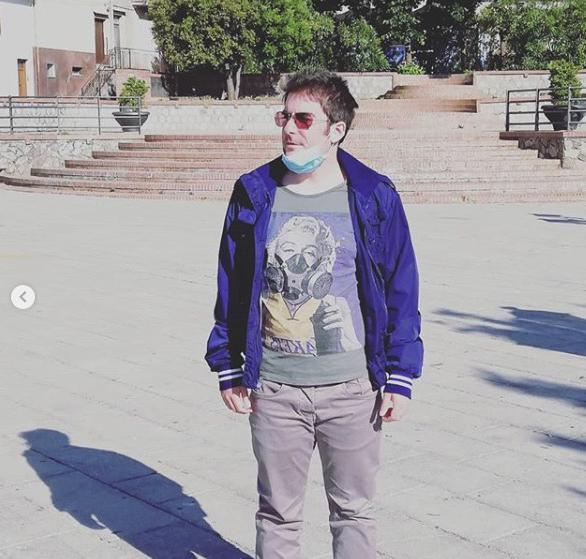mask_weared_incorrect: (278, 112, 324, 174)
